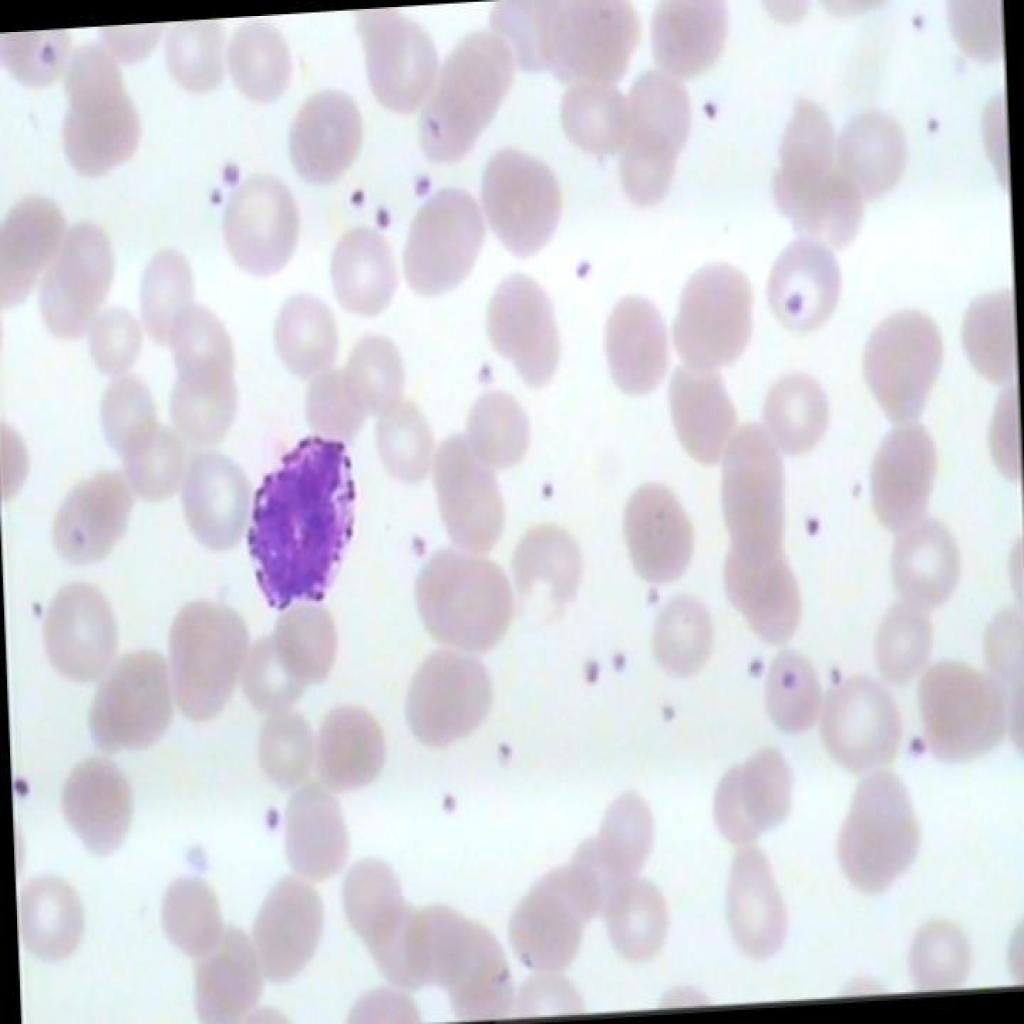Basofil: (219, 412, 370, 618)
Platelet: (792, 489, 826, 560), (775, 270, 814, 324), (195, 180, 236, 224), (203, 158, 252, 192), (428, 782, 464, 828), (603, 636, 636, 686), (328, 172, 367, 214), (26, 34, 66, 74), (401, 162, 440, 202), (526, 478, 562, 521), (768, 658, 798, 708), (735, 638, 767, 684), (912, 98, 948, 138), (570, 654, 603, 697), (466, 352, 498, 396), (485, 727, 518, 768), (248, 794, 280, 836), (569, 251, 600, 293), (654, 682, 680, 732), (18, 589, 48, 631), (398, 526, 427, 569), (892, 729, 927, 763), (368, 198, 392, 246), (10, 768, 36, 812), (691, 87, 721, 125), (900, 0, 926, 43), (639, 580, 664, 620), (819, 656, 839, 683)
